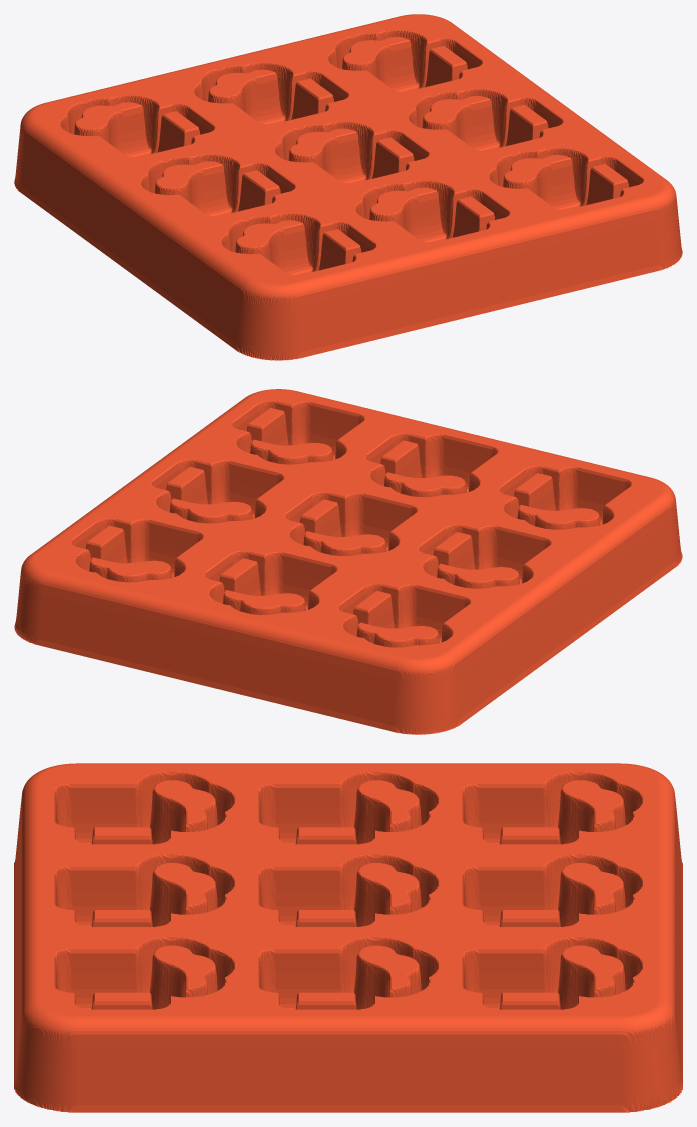
File: mold.glb
3 renders of one model, top to bottom at view 1: azimuth 30°, elevation 25°; view 2: azimuth 150°, elevation 25°; view 3: azimuth 270°, elevation 25°, orthographic. The views are drawn at different scales.
Visible parts, largest first — view 1: geometry_0; view 2: geometry_0; view 3: geometry_0.
Boxes of the visible parts, x1=… form: geometry_0: x1=14, y1=14, x2=682, y2=360; geometry_0: x1=14, y1=389, x2=682, y2=734; geometry_0: x1=14, y1=763, x2=682, y2=1112.
Bounding box in the file's own units: 0.0928 × 0.0136 × 0.0964.
